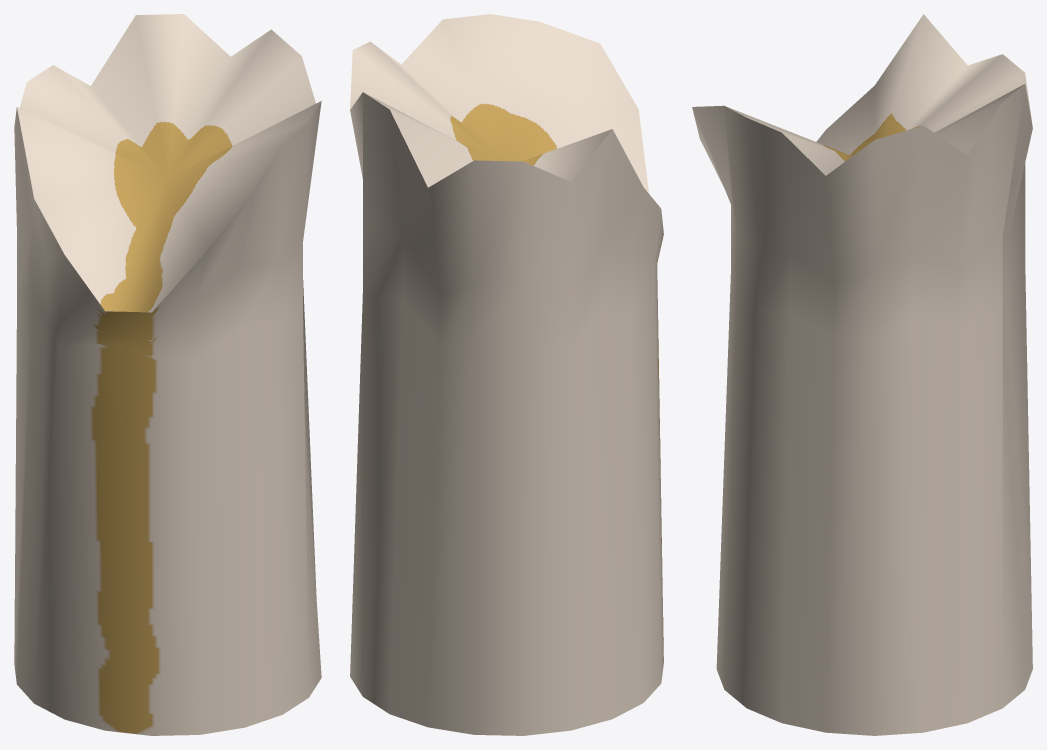
The model's file is model_candel_2.fbx.
3 views of the same model, side by side, from view 1: azimuth 30°, elevation 25°; view 2: azimuth 150°, elevation 25°; view 3: azimuth 270°, elevation 25° (orthographic). The views are drawn at different scales.
Visible parts, largest first — view 1: pCylinder1; view 2: pCylinder1; view 3: pCylinder1.
Part boxes in pixels (x1,y1,x2,y2): pCylinder1: (14, 14, 321, 735); pCylinder1: (350, 14, 663, 735); pCylinder1: (692, 14, 1032, 735).
Bounding box in the file's own units: 2 × 4.24 × 2.16.
